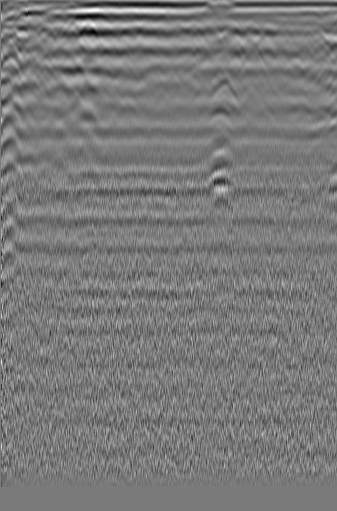가스: (200, 166, 237, 202)
상수: (18, 51, 52, 78)
오수: (282, 44, 321, 84)
우수: (138, 57, 177, 88)
